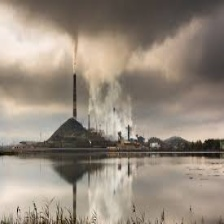smoke: (1, 1, 221, 66), (89, 68, 128, 123)
